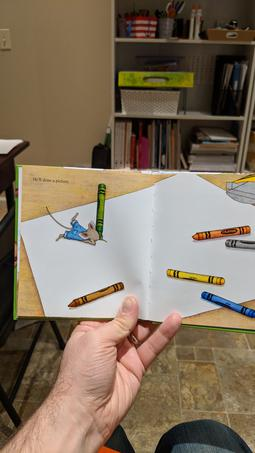text block: (27, 171, 76, 189)
